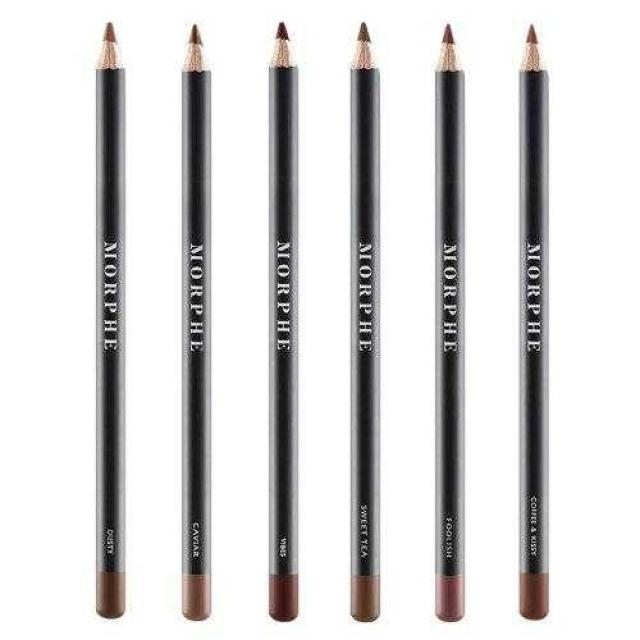pencil: (499, 6, 606, 637), (322, 13, 398, 640), (80, 7, 153, 621), (424, 12, 496, 625), (171, 10, 231, 639), (255, 9, 311, 634)
